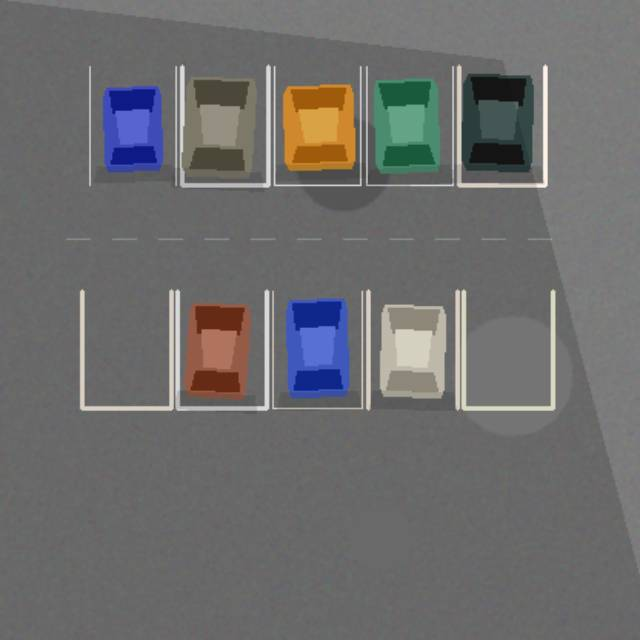space-empty: (82, 291, 171, 408), (463, 291, 552, 408)
space-occupied: (272, 291, 362, 408), (177, 291, 266, 408), (368, 291, 457, 408), (458, 66, 545, 185), (89, 66, 175, 185), (182, 66, 268, 185), (274, 66, 360, 185), (366, 66, 452, 185)
